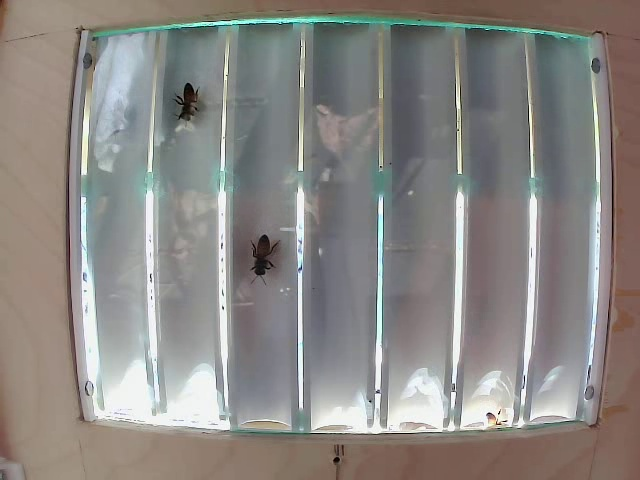bee: (245, 228, 286, 288), (171, 86, 206, 125)
